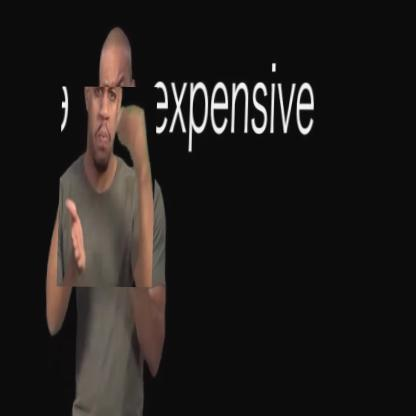Expensive: (58, 86, 158, 287)
